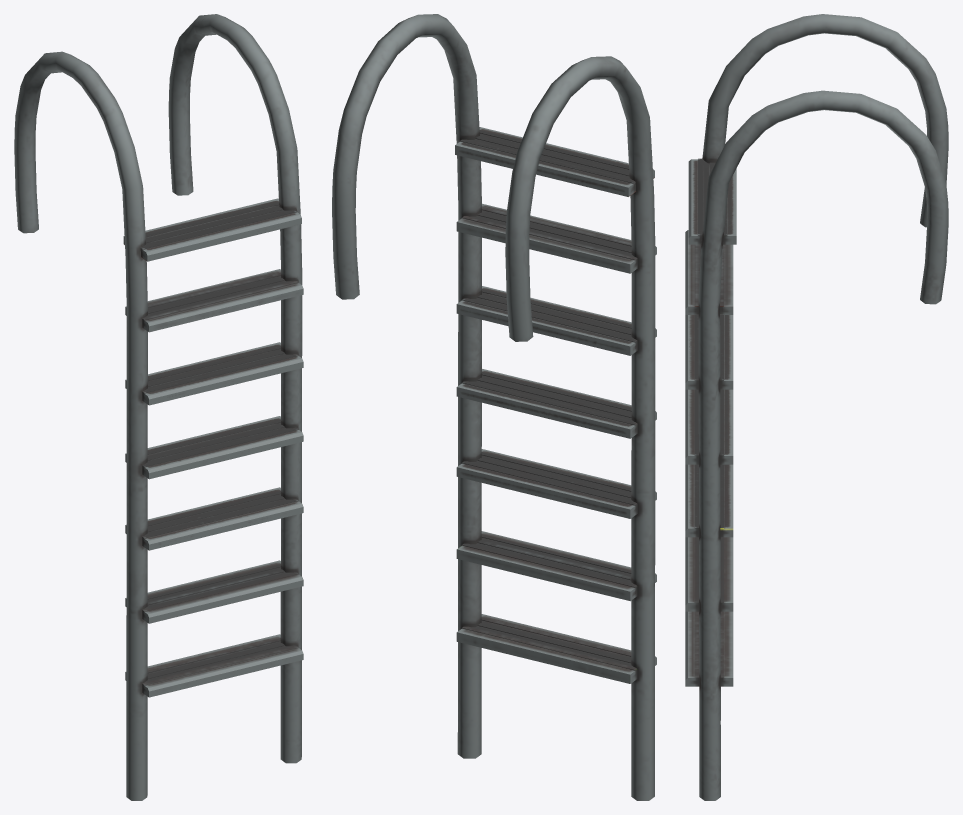
File: Stairs_2.fbx
3 views of the same model, side by side, from view 1: azimuth 30°, elevation 25°; view 2: azimuth 150°, elevation 25°; view 3: azimuth 270°, elevation 25° (orthographic). The views are drawn at different scales.
Visible parts, largest first — view 1: Stairs_2; view 2: Stairs_2; view 3: Stairs_2.
Part boxes in pixels (x1,y1,x2,y2): Stairs_2: [14, 14, 303, 800]; Stairs_2: [332, 14, 656, 800]; Stairs_2: [685, 14, 948, 800].
Size of the model in its own units: 66.24 by 258 by 87.3.
